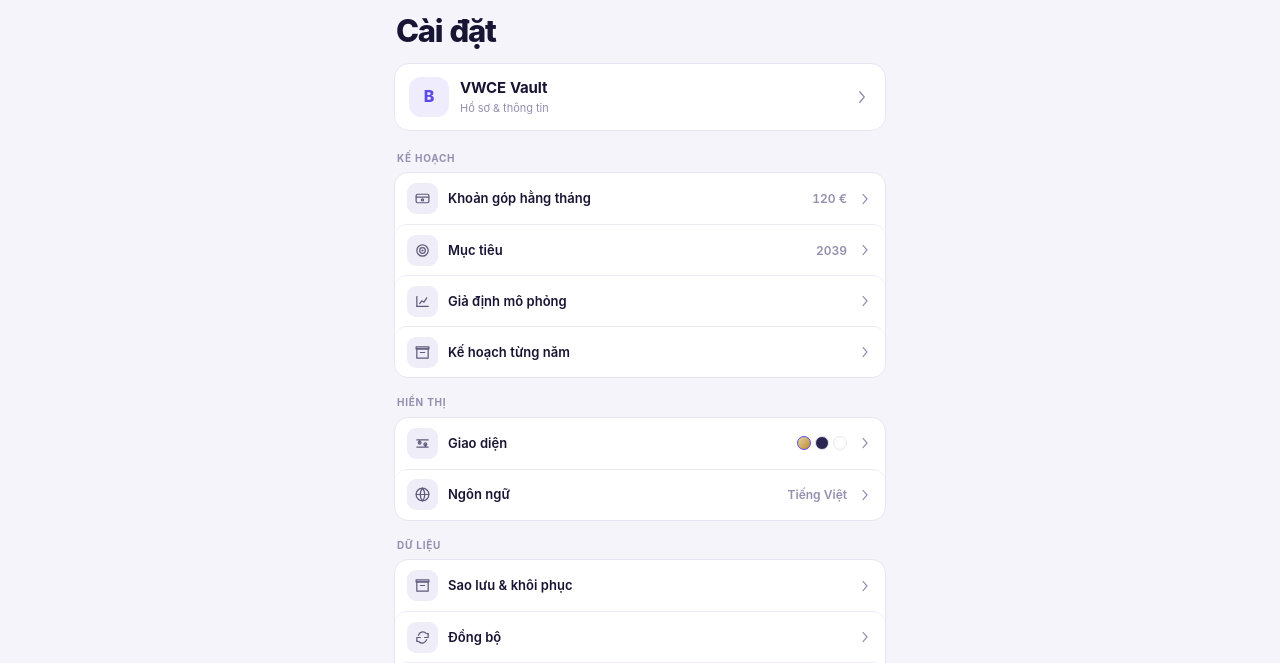
Test case: SettingsCboWorkspace yearly plan › shows the full yearly schedule with current, safe-start and target markers
The width and height of the screenshot is (1280, 663).
Click the button "Kế hoạch từng năm".
click(422, 352)  # box [395,326,885,377]
(page scrolled)
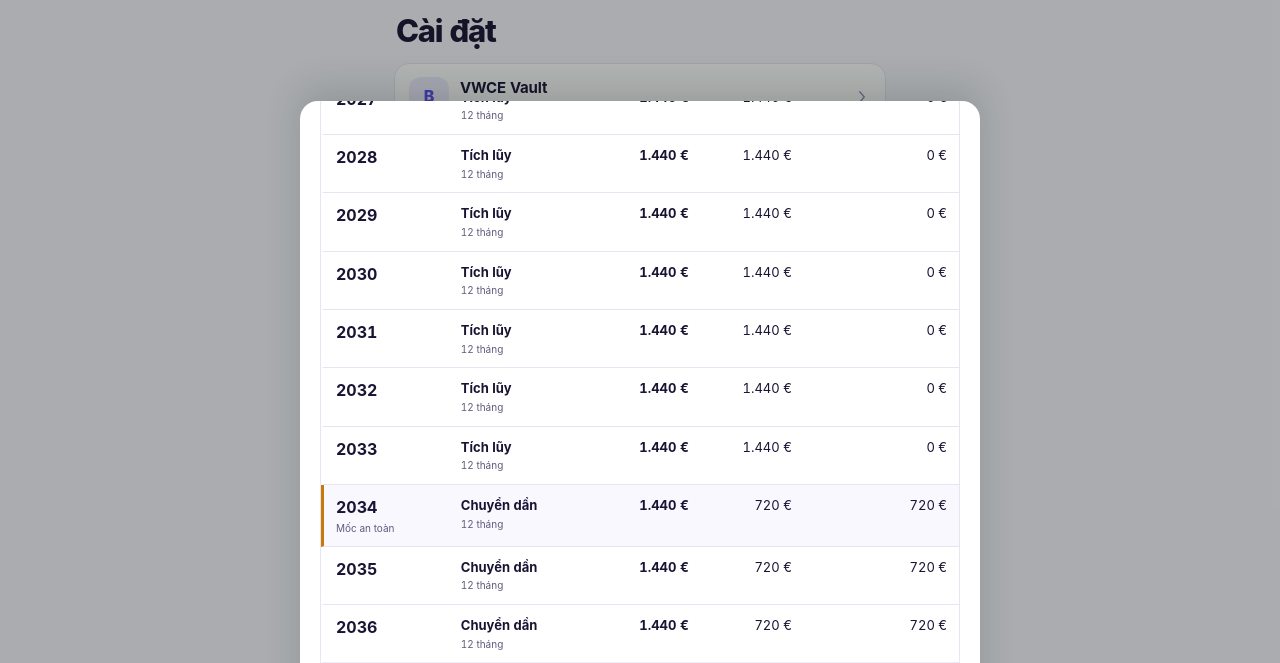
Expected: the table with test id "p40-yearly-plan" shows "2034", [336,497,377,517]
Expected: the table with test id "p40-yearly-plan" shows "Mốc an toàn", [336,522,394,534]
